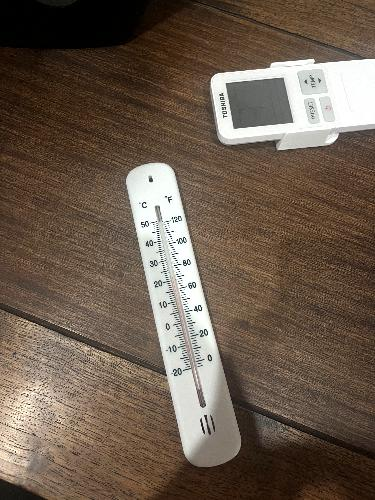thermo: (123, 159, 247, 469)
